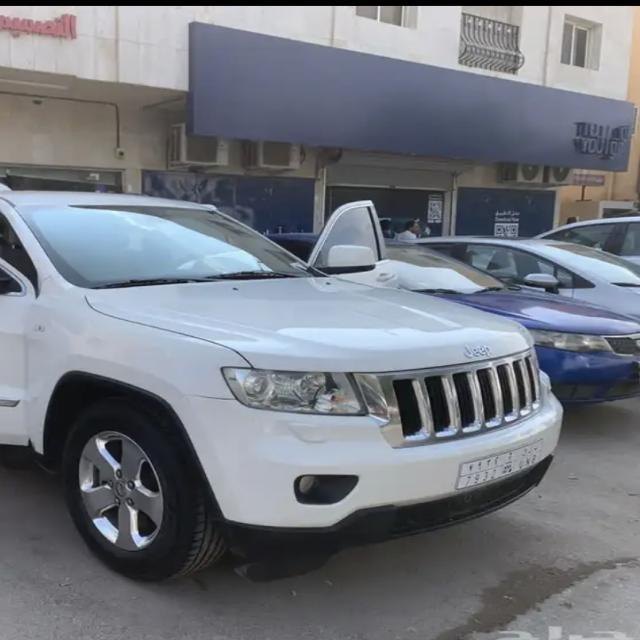license_plate: (457, 436, 546, 488)
